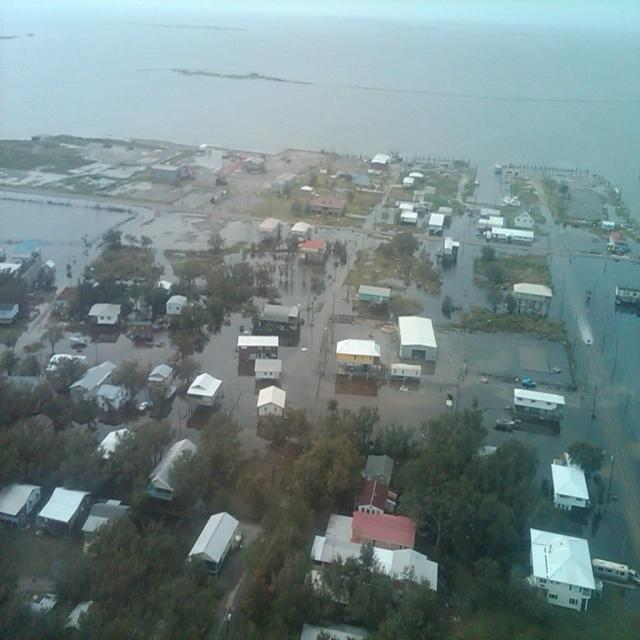flooded_areas: (7, 131, 639, 473)
